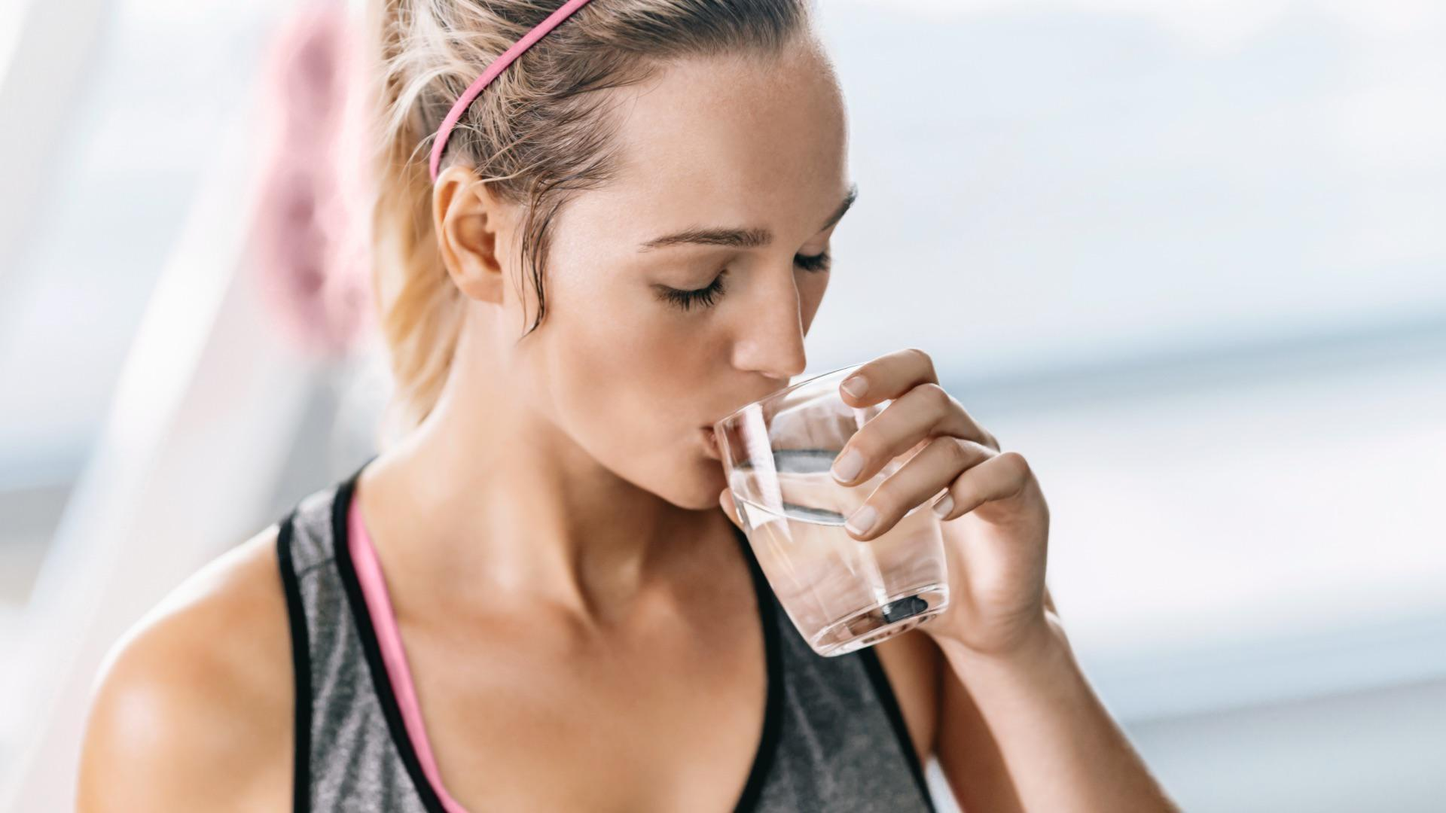glass-normal: (715, 367, 953, 656)
